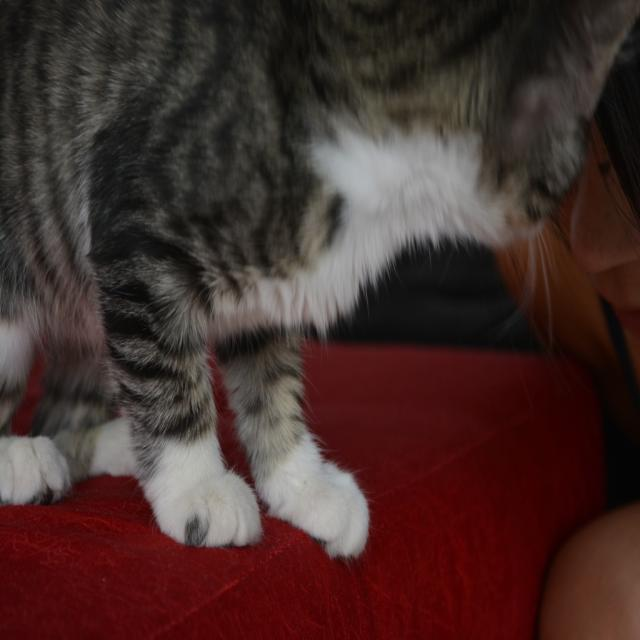Cat: (0, 0, 639, 571)
